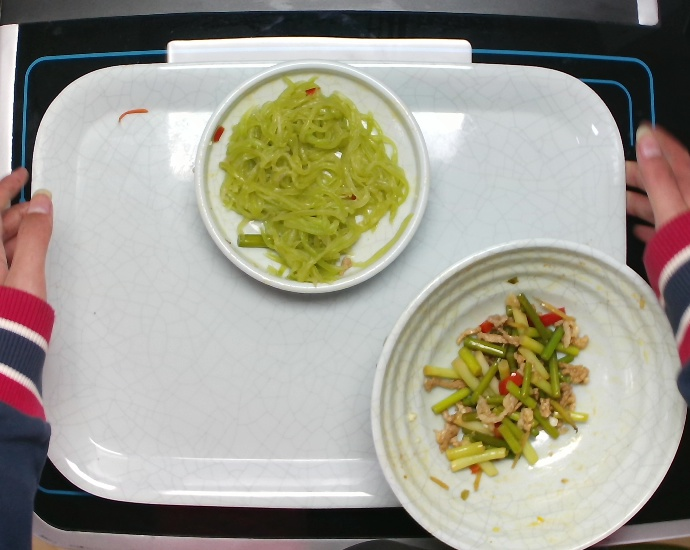JYsf-Da_Tang_Wan: (367, 233, 689, 547)
JYsf-Xiao_Yuan_Pan: (190, 56, 433, 296)
